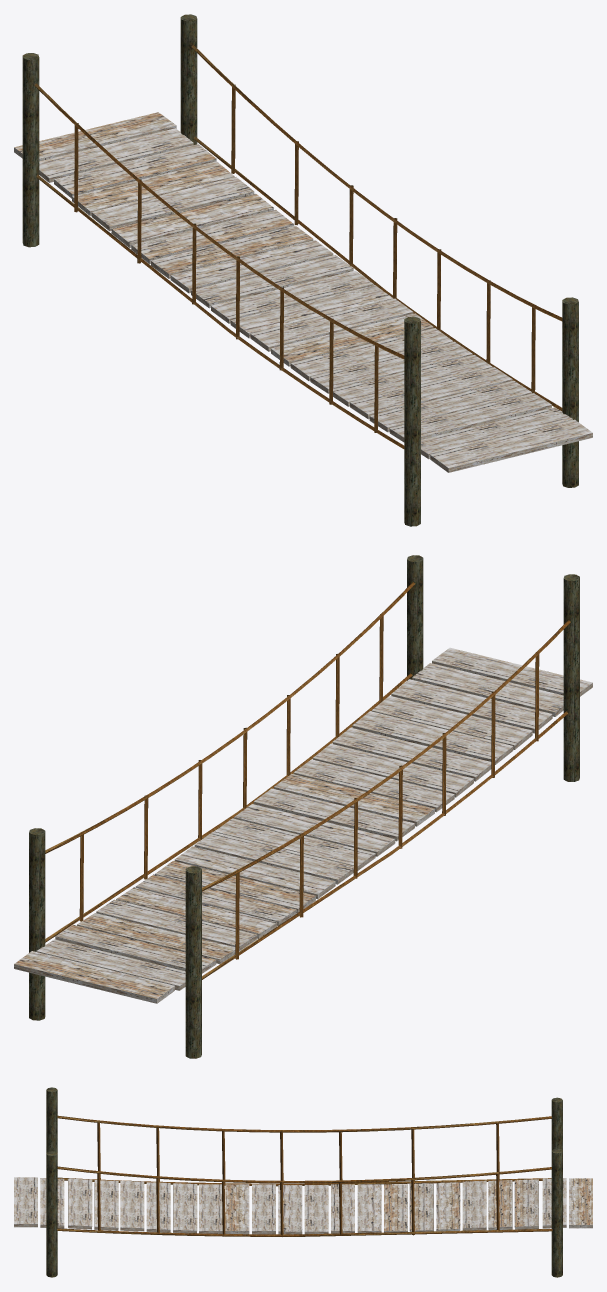
File: DinoBridge_01.DAE
3 views of the same model, one above another, from view 1: azimuth 30°, elevation 25°; view 2: azimuth 150°, elevation 25°; view 3: azimuth 270°, elevation 25° (orthographic). The views are drawn at different scales.
Visible parts, largest first — view 1: DinoBridgeONE300; view 2: DinoBridgeONE300; view 3: DinoBridgeONE300.
Part boxes in pixels (x1=…): DinoBridgeONE300: x1=14, y1=14, x2=592, y2=526; DinoBridgeONE300: x1=14, y1=555, x2=592, y2=1058; DinoBridgeONE300: x1=14, y1=1087, x2=592, y2=1277.
Size of the model in its own units: 2.32 by 10.16 by 2.6.
